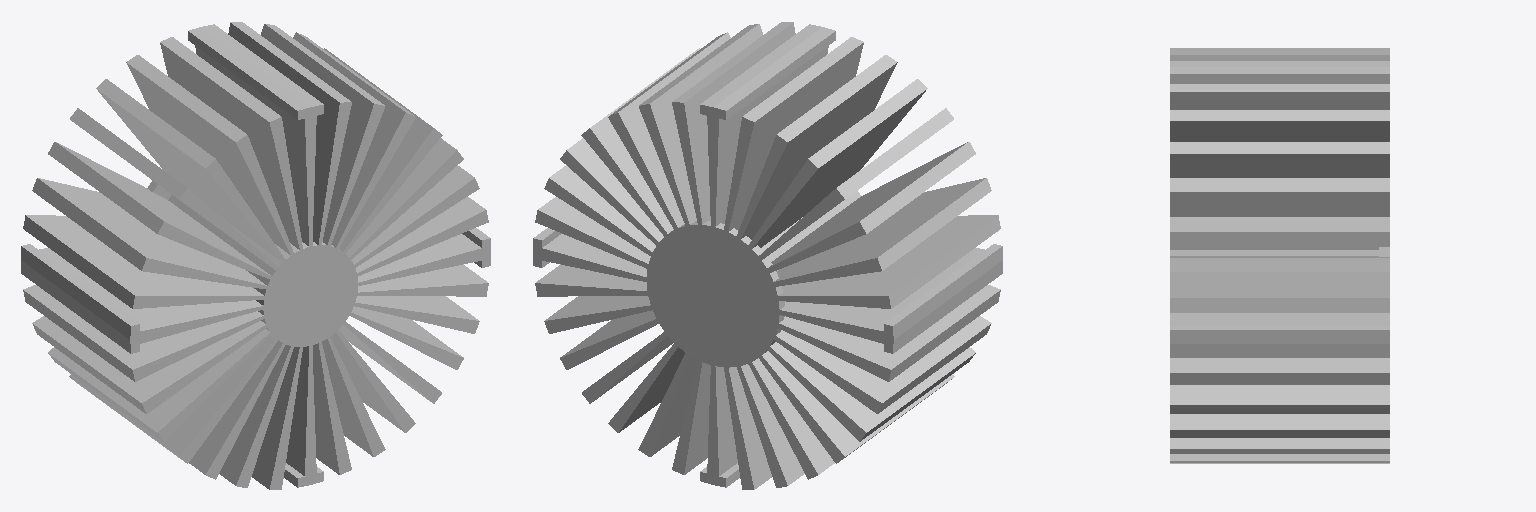
Rendered from 散热器.obj.
The picture shows the model from 3 angles: view 1: azimuth 30°, elevation 25°; view 2: azimuth 150°, elevation 25°; view 3: azimuth 270°, elevation 25°; orthographic projection.
Parts seen in each view (by area): view 1: ______; view 2: ______; view 3: ______.
Part boxes in pixels (x1,y1,x2,y2): ______: (21, 22, 490, 489); ______: (533, 22, 1002, 489); ______: (1170, 48, 1389, 463).
Bounding box in the file's own units: 190 × 190 × 100.